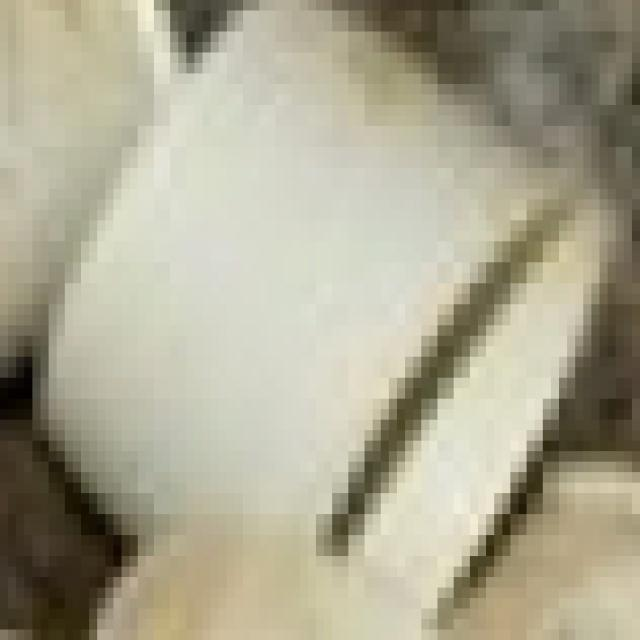paper cup: (32, 0, 640, 618)
